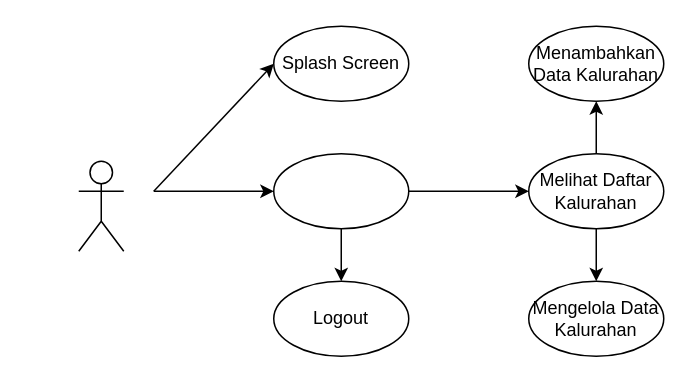
This 690x383 diagram has some shape labels left out. The box of each missing label's shape, as (x1, y1, x2, y2) in pixels:
Login: (272, 152, 409, 229)
Superadministrator: (77, 160, 124, 251)
